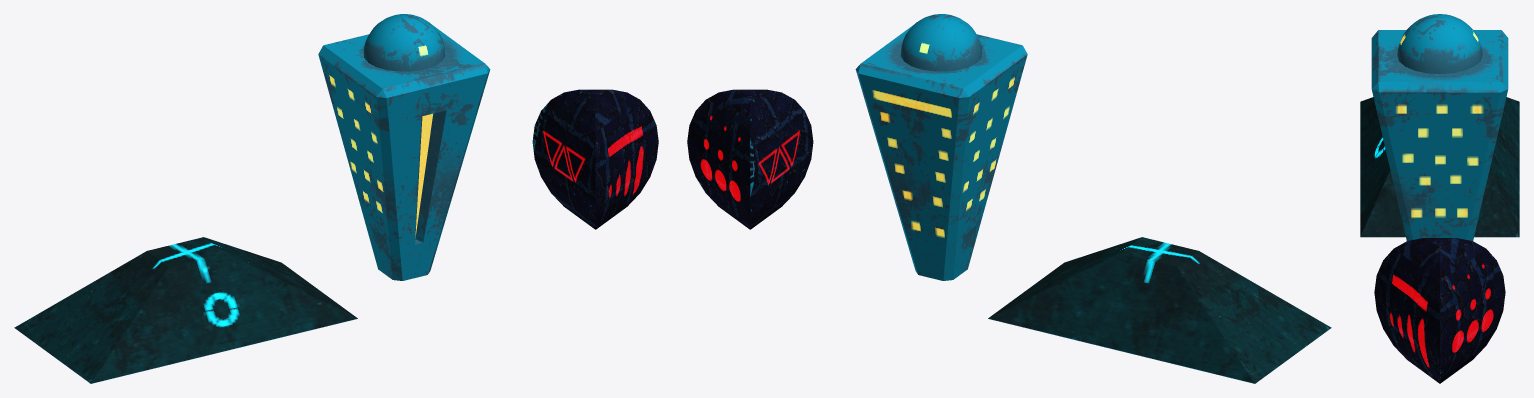
3 renders of one model, left to right at view 1: azimuth 30°, elevation 25°; view 2: azimuth 150°, elevation 25°; view 3: azimuth 270°, elevation 25°, orthographic. The views are drawn at different scales.
Parts seen in each view (by area): view 1: pCube2, group1 pCube1, pSphere2, pSphere1 group1; view 2: pCube2, group1 pCube1, pSphere2, pSphere1 group1; view 3: group1 pCube1, pSphere2, pCube2, pSphere1 group1.
Boxes of the visible parts, x1=… form: pCube2: x1=14, y1=237, x2=357, y2=383; group1 pCube1: x1=318, y1=25, x2=490, y2=280; pSphere2: x1=532, y1=89, x2=658, y2=229; pSphere1 group1: x1=363, y1=14, x2=445, y2=71; pCube2: x1=988, y1=237, x2=1331, y2=383; group1 pCube1: x1=855, y1=25, x2=1027, y2=280; pSphere2: x1=687, y1=89, x2=813, y2=229; pSphere1 group1: x1=900, y1=14, x2=982, y2=71; group1 pCube1: x1=1371, y1=30, x2=1508, y2=240; pSphere2: x1=1374, y1=238, x2=1505, y2=383; pCube2: x1=1360, y1=97, x2=1519, y2=237; pSphere1 group1: x1=1397, y1=14, x2=1482, y2=73.
Size of the model in its own units: 90.81 by 36.11 by 19.91.
Materials: 1 (1 with a texture image).
